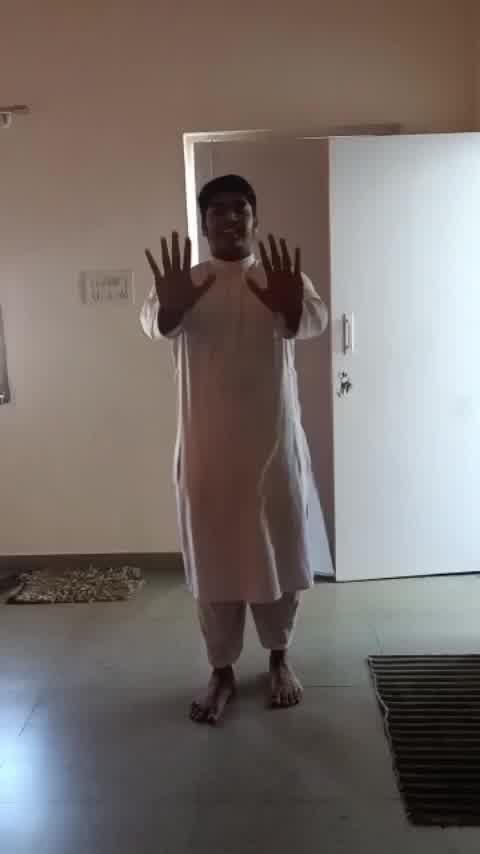duck: (137, 169, 351, 755)
